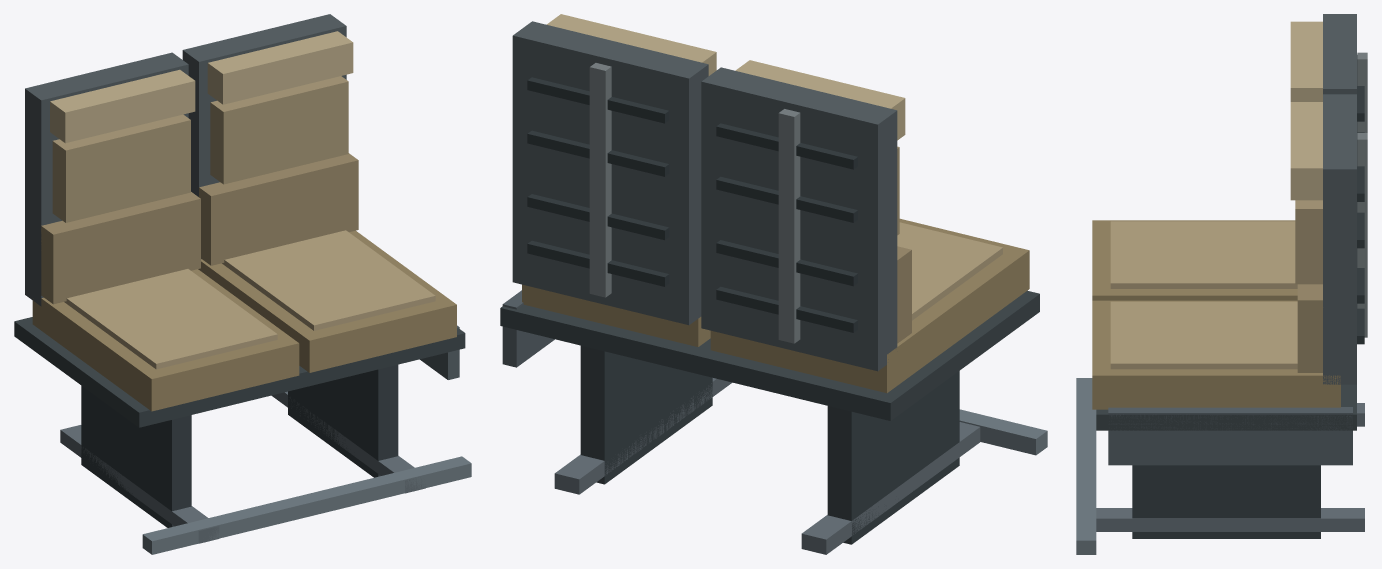
The model's file is CMU3DTanBenchRight.glb.
The picture shows the model from 3 angles, left to right: view 1: azimuth 30°, elevation 25°; view 2: azimuth 150°, elevation 25°; view 3: azimuth 270°, elevation 25°; orthographic projection. The views are drawn at different scales.
Visible parts, largest first — view 1: tan lower back pad (×2), pale seat inset (×2), tan middle back pad (×2), tan seat pad (×2), bench support leg (×2), back shell (×2), pale head pad (×2), bench seat rail, joined front foot bar, long floor skid (×2), outer end bracket; view 2: back shell (×2), bench support leg (×2), tan seat pad (×2), bench seat rail, back shell horizontal rib (×8), rear mounting spine (×2), long floor skid (×2), pale head pad (×2), pale seat inset, joined front foot bar, outer end bracket, tan lower back pad; view 3: pale seat inset (×2), tan seat pad (×2), back shell (×2), bench support leg, outer end bracket, pale head pad (×2), bench seat rail, long floor skid, joined front foot bar, tan middle back pad, tan lower back pad, rear mounting spine (×2).
Part boxes in pixels (<box>): tan lower back pad (×2): <box>41,153,358,304</box>; pale seat inset (×2): <box>64,230,435,369</box>; tan middle back pad (×2): <box>52,76,348,222</box>; tan seat pad (×2): <box>32,230,456,411</box>; bench support leg (×2): <box>81,364,398,527</box>; back shell (×2): <box>25,14,346,306</box>; pale head pad (×2): <box>50,31,353,143</box>; bench seat rail: <box>14,317,465,427</box>; joined front foot bar: <box>142,456,471,554</box>; long floor skid (×2): <box>60,391,425,543</box>; outer end bracket: <box>420,325,459,379</box>; back shell (×2): <box>512,21,897,371</box>; bench support leg (×2): <box>580,345,959,544</box>; tan seat pad (×2): <box>522,218,1029,393</box>; bench seat rail: <box>500,290,1039,420</box>; back shell horizontal rib (×8): <box>527,77,857,332</box>; rear mounting spine (×2): <box>589,63,800,343</box>; long floor skid (×2): <box>554,378,980,554</box>; pale head pad (×2): <box>547,14,905,140</box>; pale seat inset: <box>897,222,1002,320</box>; joined front foot bar: <box>959,409,1047,455</box>; outer end bracket: <box>502,290,554,367</box>; tan lower back pad: <box>897,246,911,343</box>; pale seat inset (×2): <box>1110,221,1297,369</box>; tan seat pad (×2): <box>1092,220,1340,409</box>; back shell (×2): <box>1323,14,1356,384</box>; bench support leg: <box>1132,465,1320,538</box>; outer end bracket: <box>1108,407,1352,465</box>; pale head pad (×2): <box>1290,21,1322,200</box>; bench seat rail: <box>1096,384,1356,430</box>; long floor skid: <box>1096,508,1364,531</box>; joined front foot bar: <box>1076,378,1096,554</box>; tan middle back pad: <box>1295,200,1322,284</box>; tan lower back pad: <box>1297,284,1322,372</box>; rear mounting spine (×2): <box>1357,52,1367,337</box>.
Bounding box in the file's own units: 0.98 × 1.07 × 0.727.
